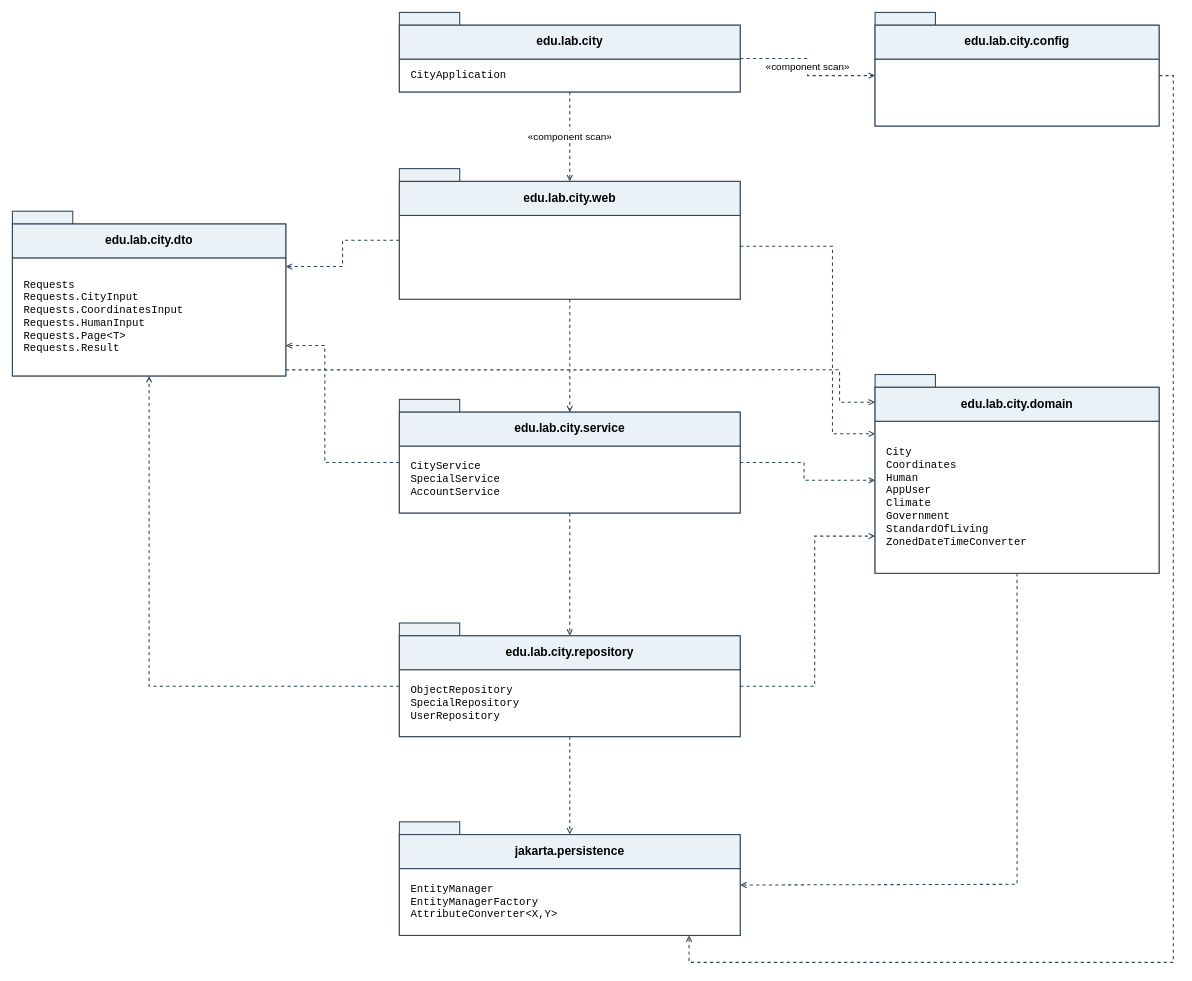
Some shapes in this 1192 by 981 pixel diagram are drawn without their labels. The shapes that lost their labels are listed below. From the top down, each one's centre as x and y in pixels, then its label:
At (1016,92): "PersistenceConfig SecurityConfig JsonConfig".
At (569,257): "ApiController AuthController AuthController.Registration ApiExceptionHandler".
